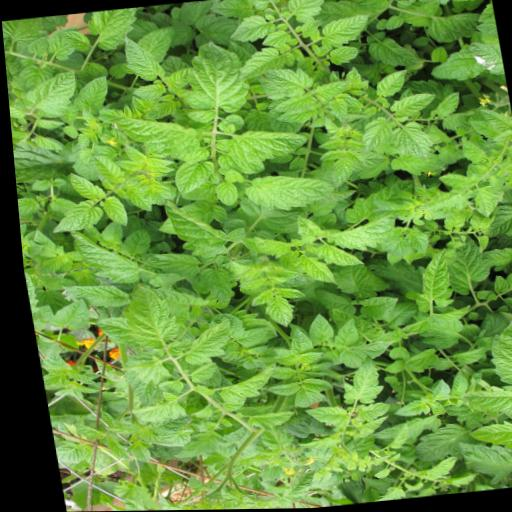Healthy: (173, 38, 253, 118), (112, 108, 200, 164), (64, 225, 138, 288), (160, 196, 228, 263), (240, 170, 334, 217), (114, 282, 176, 351), (392, 248, 452, 313), (220, 126, 309, 167), (438, 233, 491, 299), (448, 436, 512, 489), (15, 70, 81, 121), (319, 215, 401, 256), (401, 423, 471, 465), (209, 363, 277, 406), (329, 355, 380, 408), (173, 320, 231, 366), (85, 8, 143, 53), (478, 318, 512, 388), (56, 280, 126, 313), (121, 33, 165, 84), (122, 389, 181, 425), (44, 198, 102, 234), (230, 47, 288, 83), (386, 122, 432, 166), (458, 419, 512, 456), (319, 14, 374, 50), (260, 65, 315, 101), (455, 387, 512, 421), (134, 25, 182, 65), (112, 355, 165, 390), (68, 76, 112, 117), (385, 151, 445, 181), (366, 37, 417, 72), (144, 250, 198, 283), (39, 298, 87, 334), (168, 160, 216, 196), (163, 431, 218, 461), (226, 14, 278, 45), (192, 266, 231, 307), (269, 470, 313, 506), (386, 93, 438, 122), (212, 150, 263, 179), (289, 255, 331, 289), (309, 286, 351, 320), (256, 293, 293, 331), (356, 117, 394, 154), (65, 169, 104, 205), (327, 262, 366, 298), (310, 242, 359, 270), (237, 410, 291, 435), (112, 226, 150, 260), (296, 405, 342, 432), (88, 153, 124, 187), (272, 103, 323, 127), (285, 0, 331, 26), (375, 302, 415, 331), (466, 186, 499, 221), (299, 312, 331, 347), (250, 234, 290, 262), (372, 71, 410, 100), (352, 296, 396, 321), (396, 225, 427, 258), (267, 95, 318, 115), (140, 99, 182, 123), (120, 183, 151, 215), (368, 201, 413, 223), (415, 456, 452, 482), (97, 195, 125, 229), (325, 159, 354, 191), (326, 319, 355, 349), (116, 440, 149, 466), (311, 81, 350, 103), (396, 348, 435, 370), (457, 140, 487, 168), (229, 327, 268, 348), (348, 402, 385, 424), (61, 28, 91, 55), (431, 93, 461, 120), (129, 82, 166, 103), (282, 328, 309, 356), (435, 172, 469, 194), (384, 400, 421, 420), (181, 363, 214, 385), (446, 348, 482, 367), (468, 120, 499, 142), (210, 182, 236, 208), (328, 46, 359, 67), (294, 376, 328, 395), (434, 305, 468, 324), (259, 30, 291, 50), (324, 99, 348, 125), (260, 381, 294, 399), (421, 379, 445, 403), (25, 36, 50, 58), (300, 20, 324, 41), (291, 351, 320, 367), (33, 118, 63, 130), (382, 16, 404, 32), (434, 0, 458, 7), (448, 0, 487, 4)
